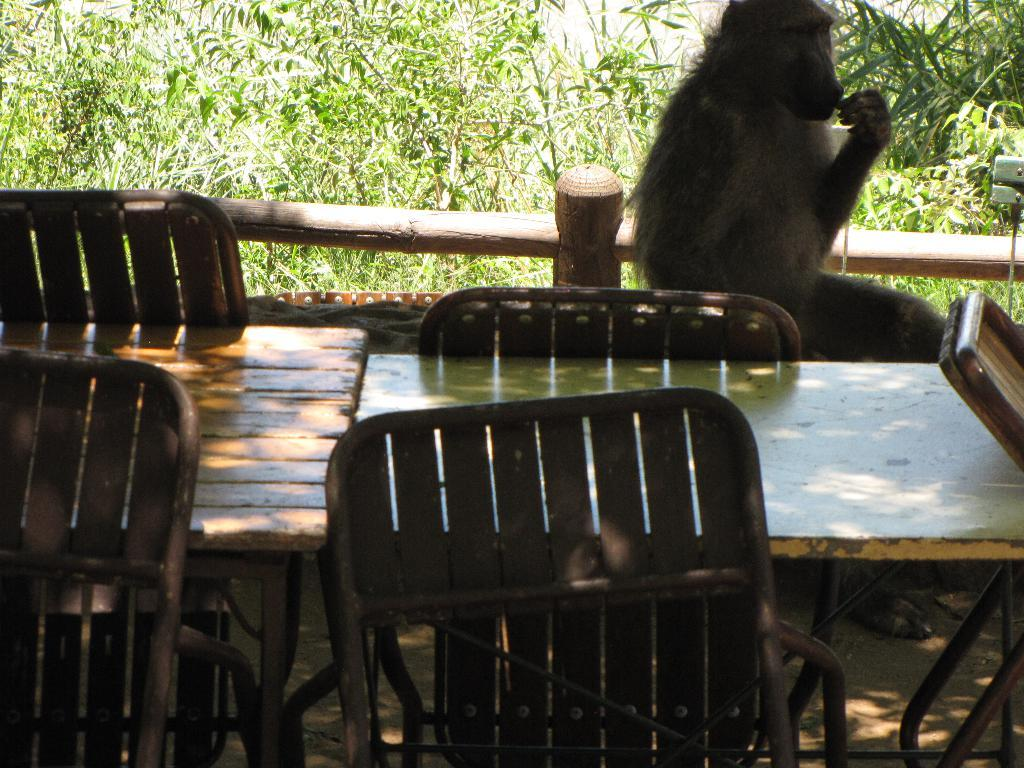Chair: (348, 283, 838, 767), (0, 184, 271, 722), (0, 345, 266, 767), (897, 287, 1023, 767)
